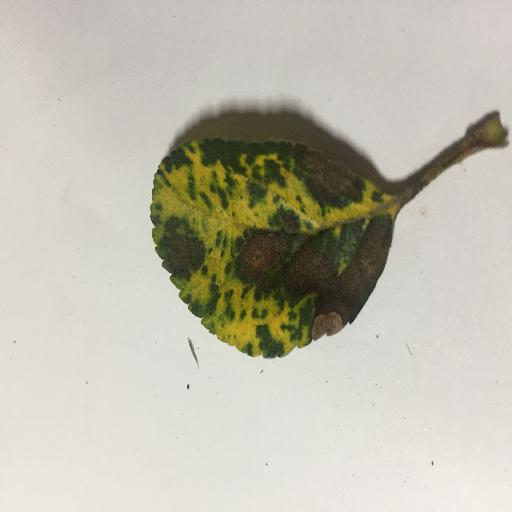Brown_Spot: (241, 140, 386, 335), (162, 223, 214, 274)
